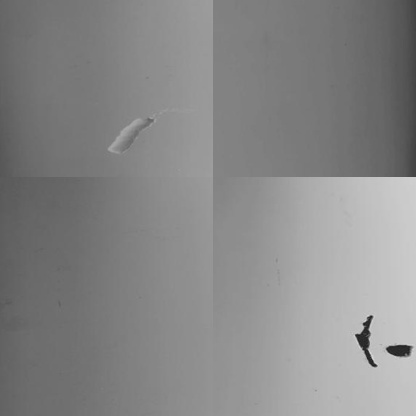kongdong: (350, 313, 383, 372), (383, 339, 410, 359)
sunshang: (106, 113, 155, 156)
